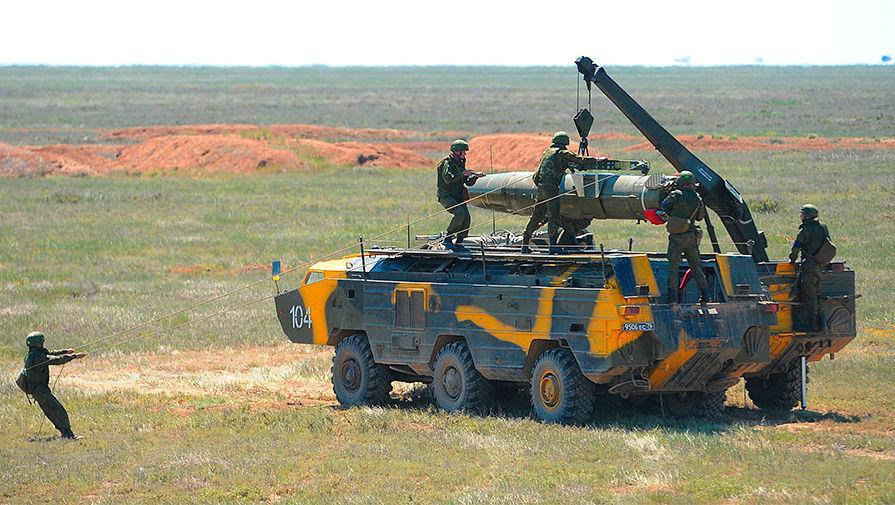person: (661, 168, 719, 306), (520, 132, 581, 257), (24, 328, 84, 438), (793, 206, 832, 330), (433, 142, 483, 238)
rszo: (274, 220, 864, 420)
